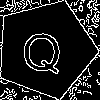Q: (20, 24, 63, 75)
